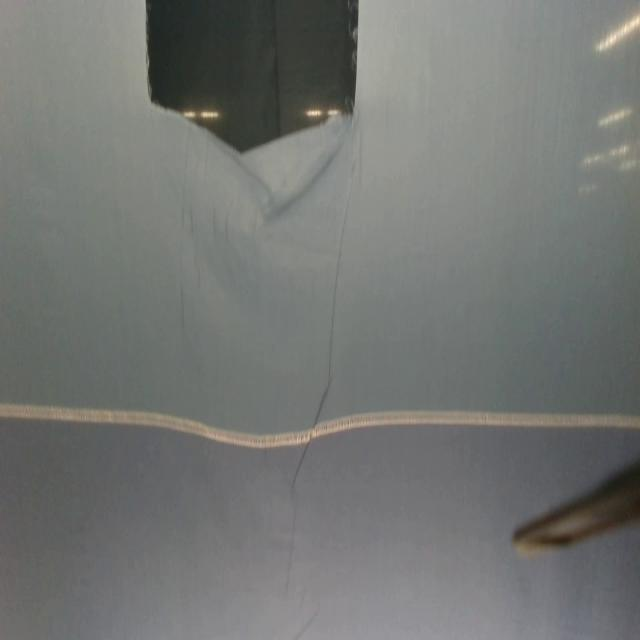crease: (326, 170, 354, 377), (292, 384, 334, 484), (282, 495, 302, 595)
hole: (142, 0, 361, 157)
